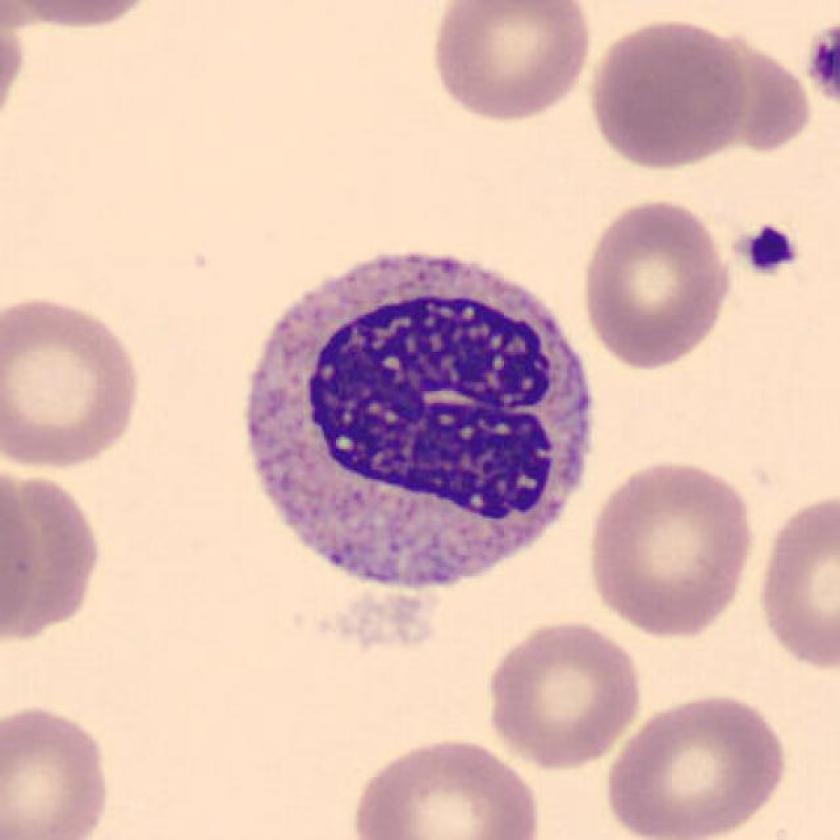neutrophil: (245, 252, 601, 584)
